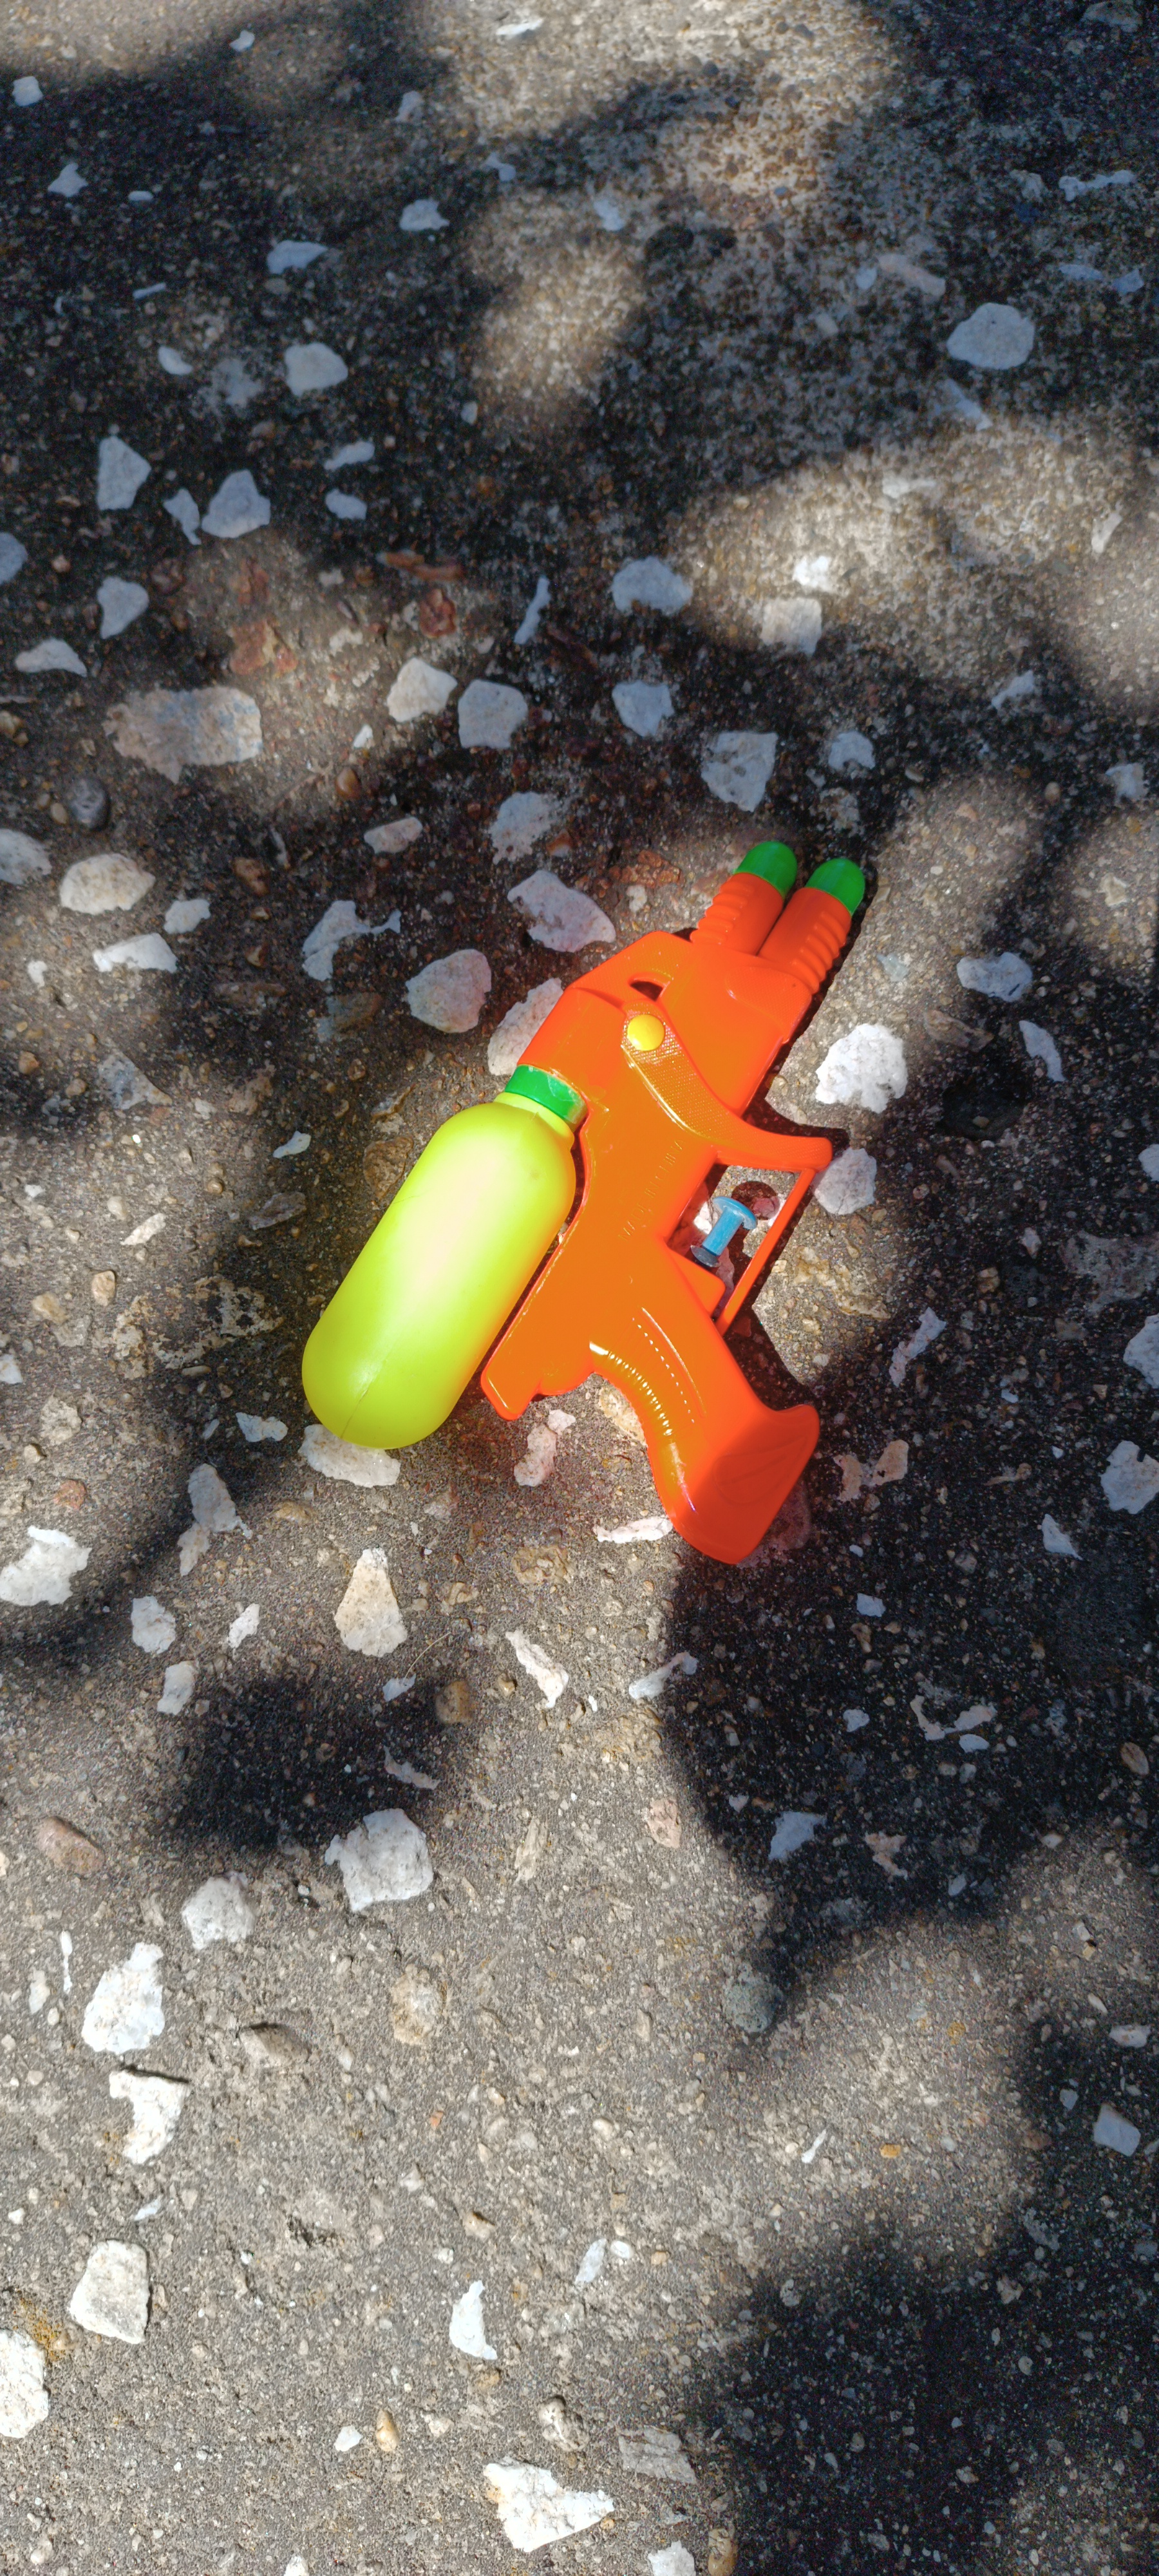Water Gun: (299, 838, 868, 1566)
